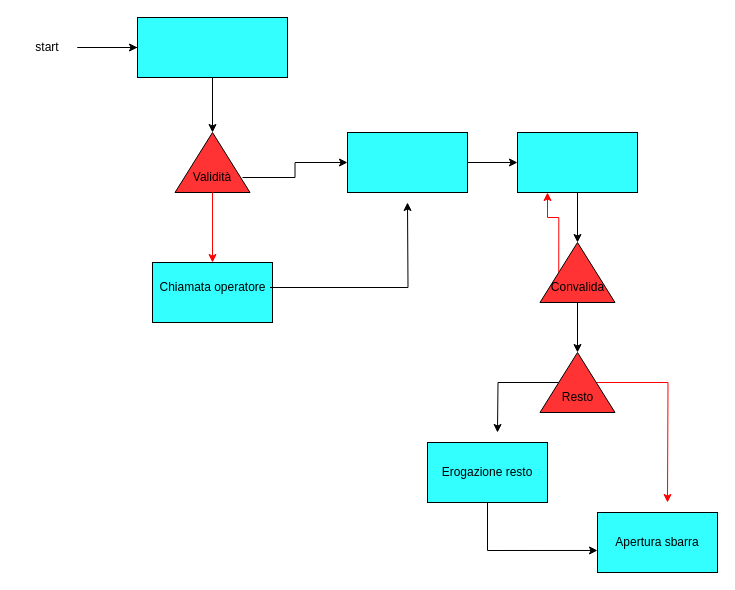
Image size: 735x590. Some labels were removed from this diagram. Here are the shapes that lost their labels. From the top down, the centre of each, then its label:
At pixel 212 47: "Inserire biglietto".
At pixel 407 162: "Calcolo prezzo tratta".
At pixel 577 162: "Pagamento".
